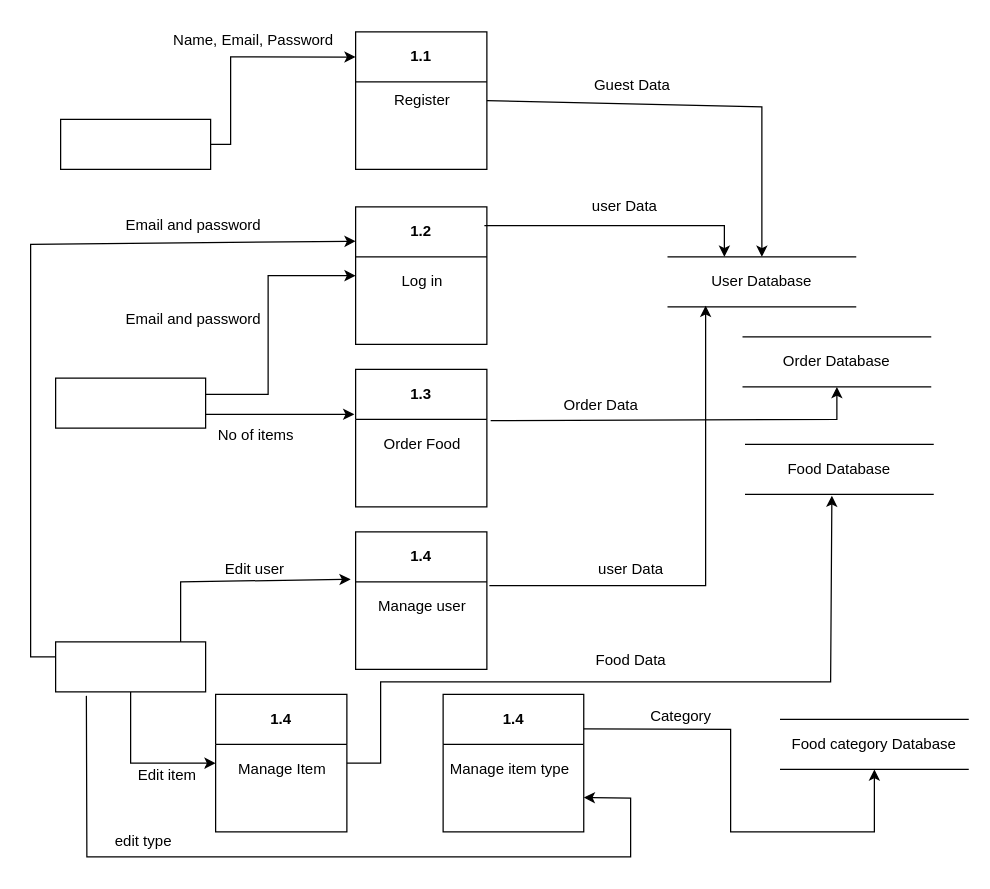
The diagram is 990 pixels wide and 889 high, and some of its shapes have lost their labels. The shapes that lost their labels are listed below. From the top down, each one's box as (x1, y1, x2, y2) in pixels, then its label:
(59, 118, 211, 169): Guest
(54, 377, 206, 428): User
(54, 641, 206, 692): Admin
